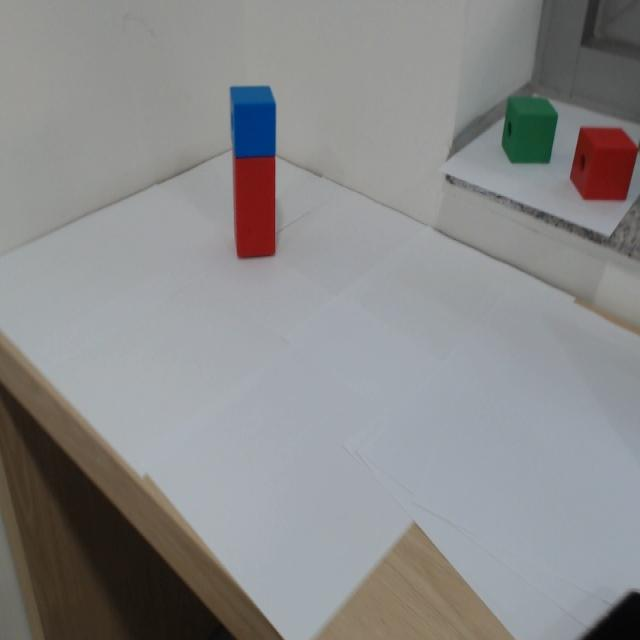cube: (222, 71, 295, 159)
